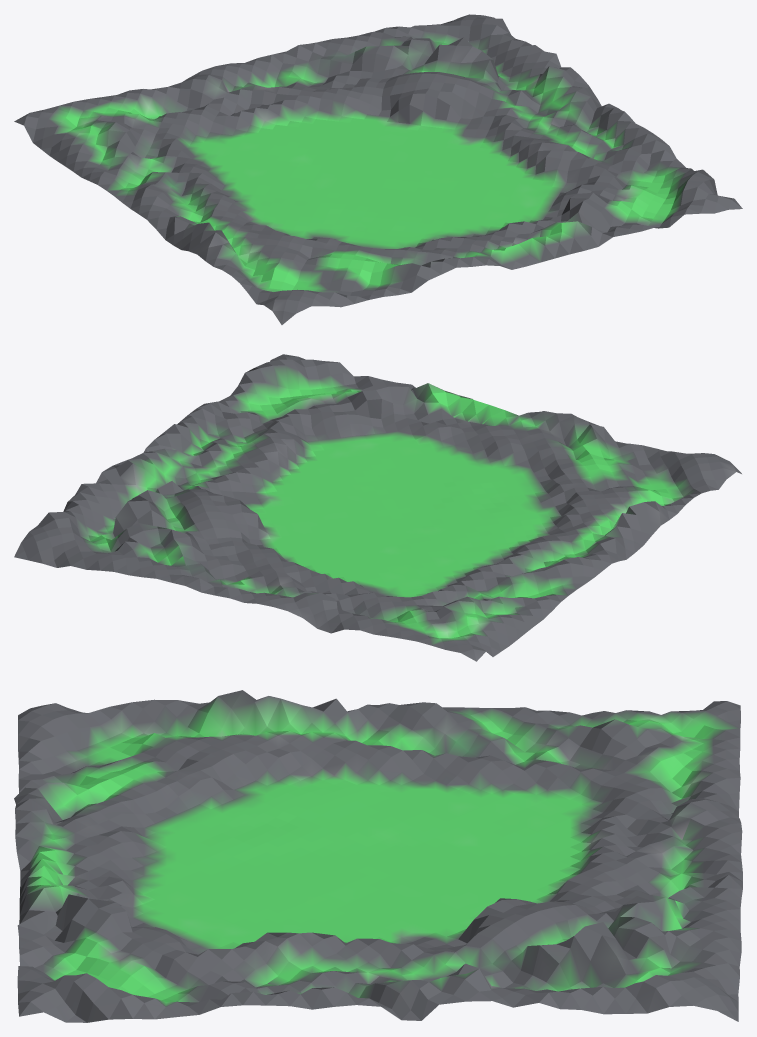
Rendered from Low_Poly_Terrain.fbx.
3 views of the same model, one above another, from view 1: azimuth 30°, elevation 25°; view 2: azimuth 150°, elevation 25°; view 3: azimuth 270°, elevation 25° (orthographic). The views are drawn at different scales.
Parts seen in each view (by area): view 1: Plane; view 2: Plane; view 3: Plane.
Part boxes in pixels (bbox=[...]): Plane: bbox=[14, 14, 742, 324]; Plane: bbox=[14, 354, 741, 661]; Plane: bbox=[14, 690, 742, 1022].
Size of the model in its own units: 81560 by 5756 by 81255.
